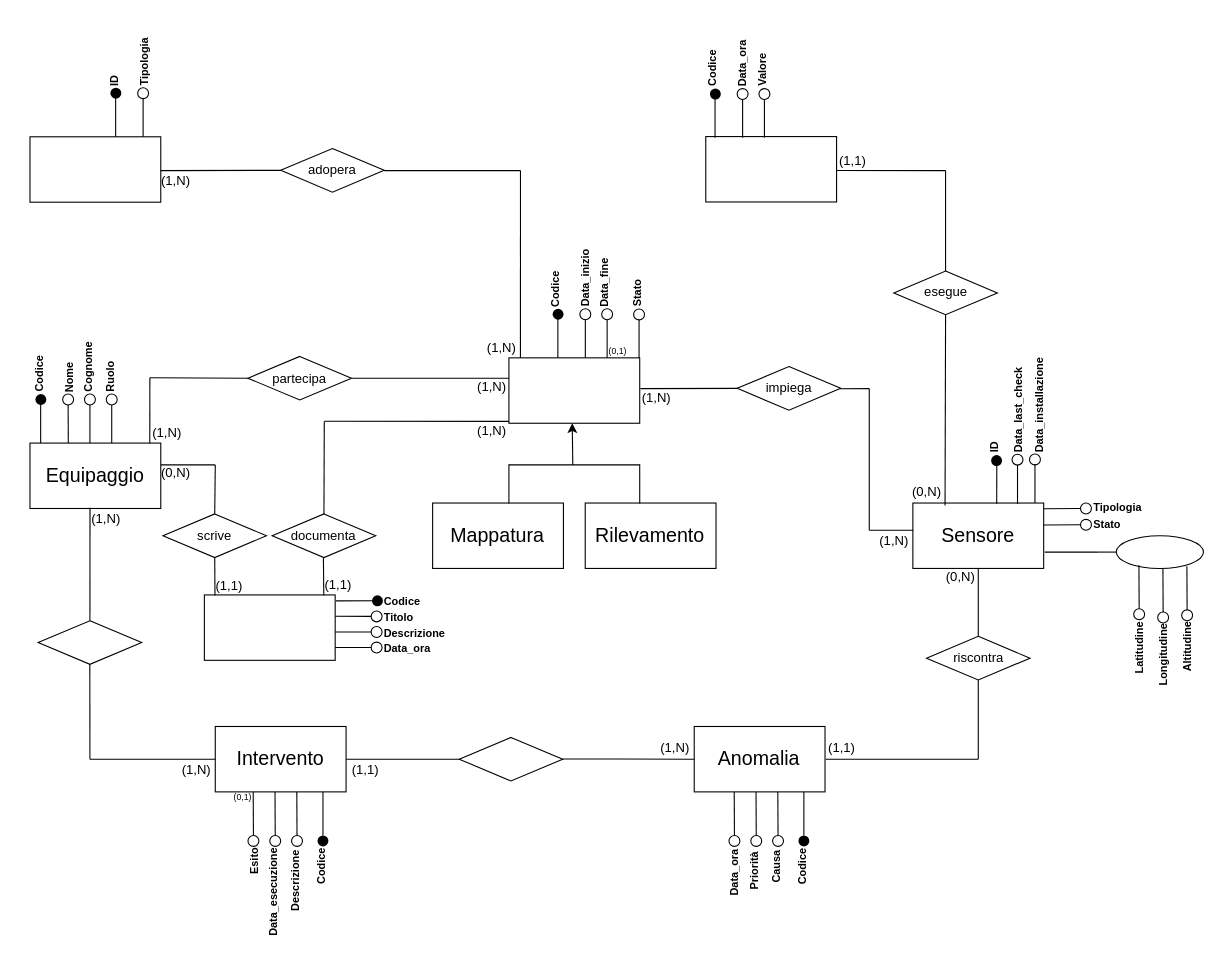
The diagram is 1223 pixels wide and 958 high, and some of its shapes have lost their labels. The centre of each missing label's shape, as x and y in pixels:
"Coordinate" goes at point 1159,551.
"effettua" goes at point 89,642.
"Missione" goes at point 574,390.
"Report" goes at point 269,627.
"risolve" goes at point 510,758.
"Rivelazione" goes at point 771,168.
"Robot" goes at point 95,169.
